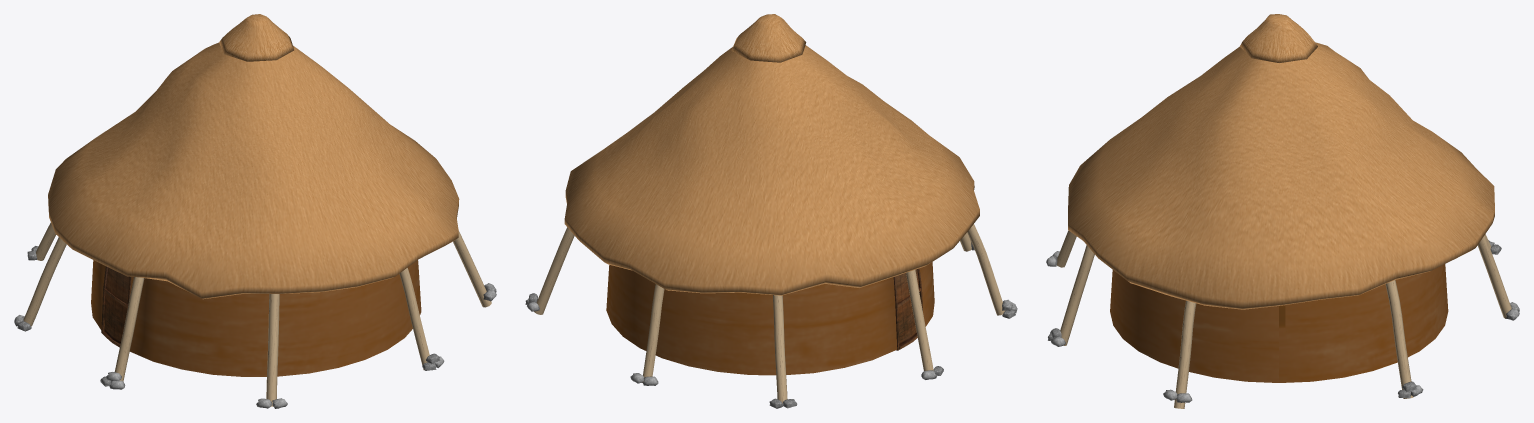
The model's file is House 2.fbx.
The picture shows the model from 3 angles, left to right: view 1: azimuth 30°, elevation 25°; view 2: azimuth 150°, elevation 25°; view 3: azimuth 270°, elevation 25°; orthographic projection. The views are drawn at different scales.
Visible parts, largest first — view 1: House.002; view 2: House.002; view 3: House.002.
Part boxes in pixels (x1,y1,x2,y2): House.002: (14,14,496,408); House.002: (525,14,1017,408); House.002: (1046,14,1519,408).
Size of the model in its own units: 4.22 by 3.03 by 4.28.
